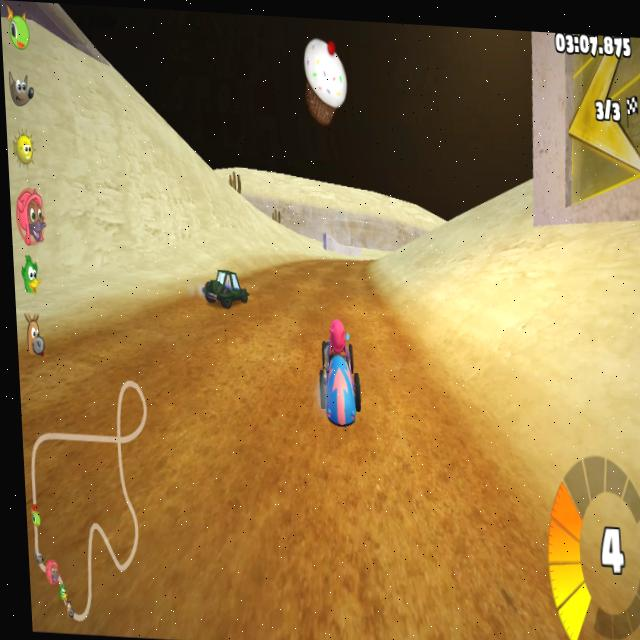enemy_kart: (199, 264, 258, 315)
player_kart: (313, 310, 371, 433)
track: (124, 469, 550, 640), (105, 320, 319, 474), (23, 439, 133, 640), (365, 309, 423, 456), (49, 337, 113, 423), (300, 258, 372, 298), (260, 268, 304, 318), (343, 258, 371, 265)
